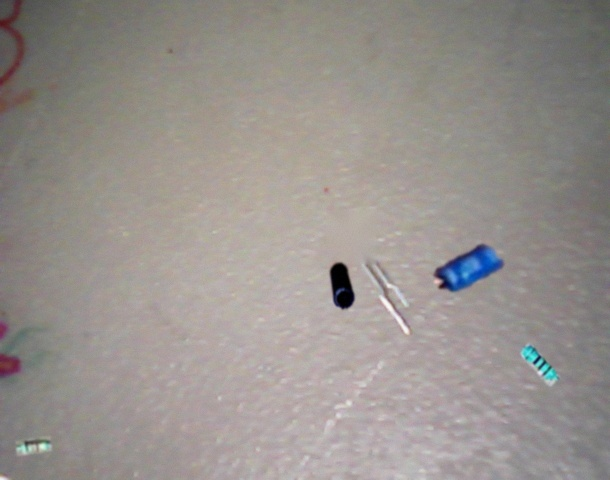capacitor: (433, 243, 505, 292), (330, 263, 355, 310)
resistor: (519, 343, 560, 387), (15, 436, 52, 456)
